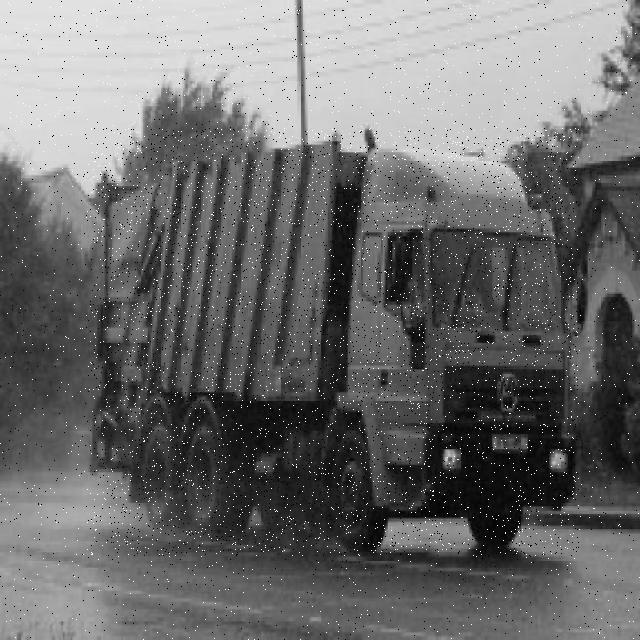Garbage Truck: (90, 128, 579, 556)
